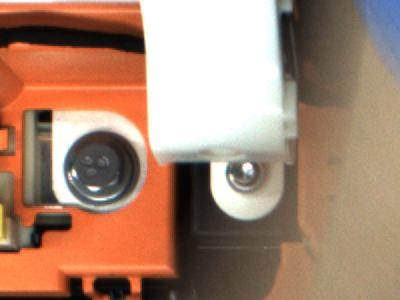nut_b: (56, 126, 134, 209)
